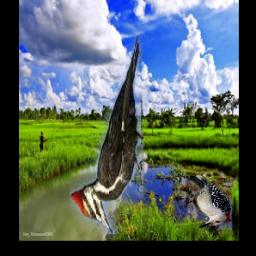Woodpecker: (70, 29, 143, 235), (186, 176, 232, 227)
